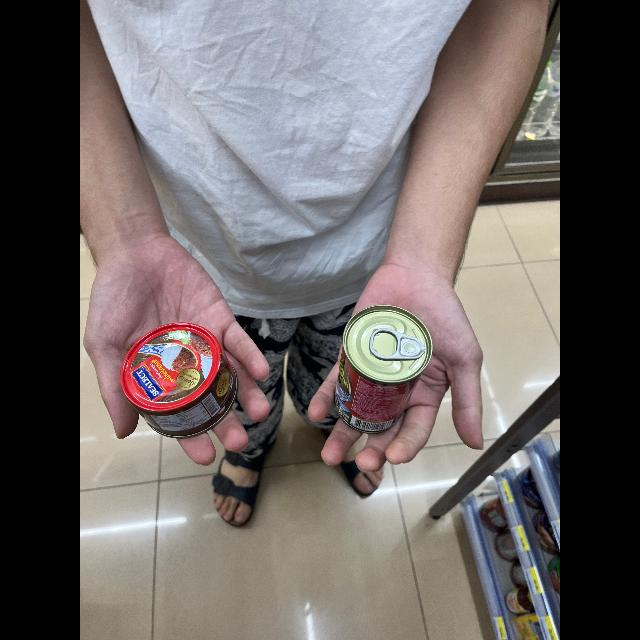can: (322, 302, 433, 432), (108, 322, 242, 428)
